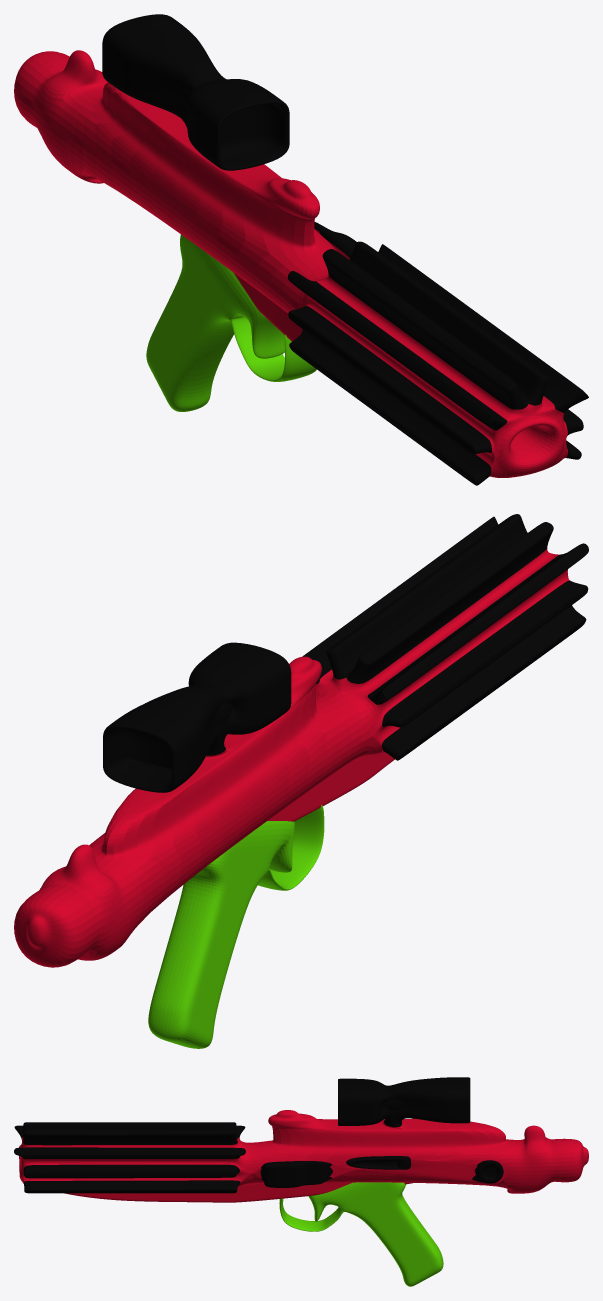
Rendered from e-11blasterriffle.fbx.
3 views of the same model, one above another, from view 1: azimuth 30°, elevation 25°; view 2: azimuth 150°, elevation 25°; view 3: azimuth 270°, elevation 25° (orthographic). The views are drawn at different scales.
Parts seen in each view (by area): view 1: Plane.001; view 2: Plane.001; view 3: Plane.001.
Boxes of the visible parts, x1,y1,x2,y2 form: Plane.001: (14, 14, 588, 485); Plane.001: (14, 514, 588, 1048); Plane.001: (14, 1077, 588, 1286).
Bounding box in the file's own units: 116 × 349 × 902.
